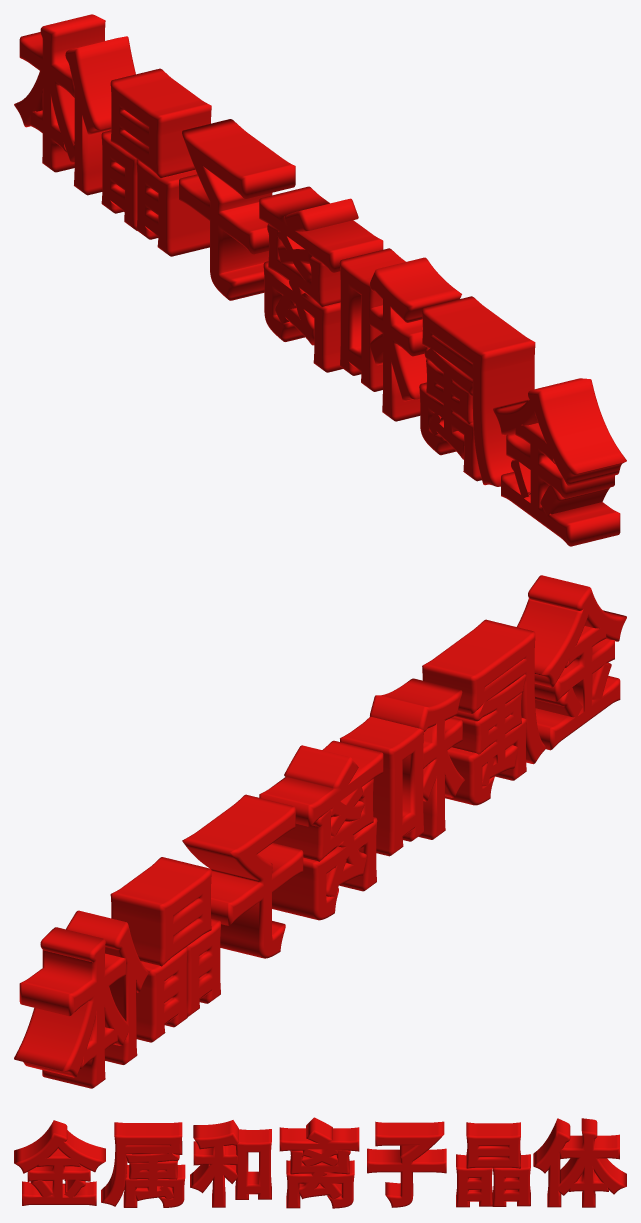
The model's file is j金属和j晶体.fbx.
3 renders of one model, top to bottom at view 1: azimuth 30°, elevation 25°; view 2: azimuth 150°, elevation 25°; view 3: azimuth 270°, elevation 25°, orthographic. The views are drawn at different scales.
Visible parts, largest first — view 1: Text; view 2: Text; view 3: Text.
Boxes of the visible parts, x1,y1,x2,y2 form: Text: (14, 14, 626, 546); Text: (14, 575, 626, 1088); Text: (14, 1117, 626, 1208).
Bounding box in the file's own units: 32 × 81.97 × 581.
